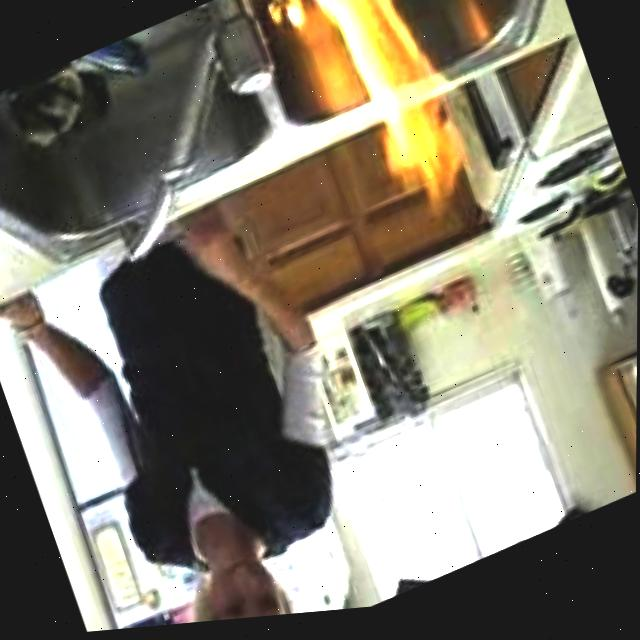Fire: (271, 0, 501, 263)
Smoke: (271, 0, 501, 263)
